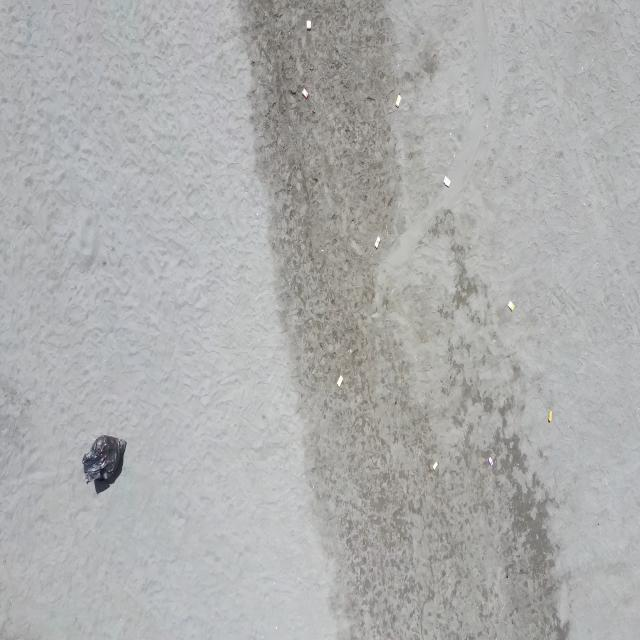retort-pouch: (442, 174, 451, 190), (302, 86, 309, 102), (336, 374, 344, 388), (395, 94, 402, 109), (374, 235, 381, 250), (547, 409, 553, 424), (508, 300, 514, 314), (432, 460, 438, 472), (306, 19, 312, 31), (488, 456, 494, 467)
